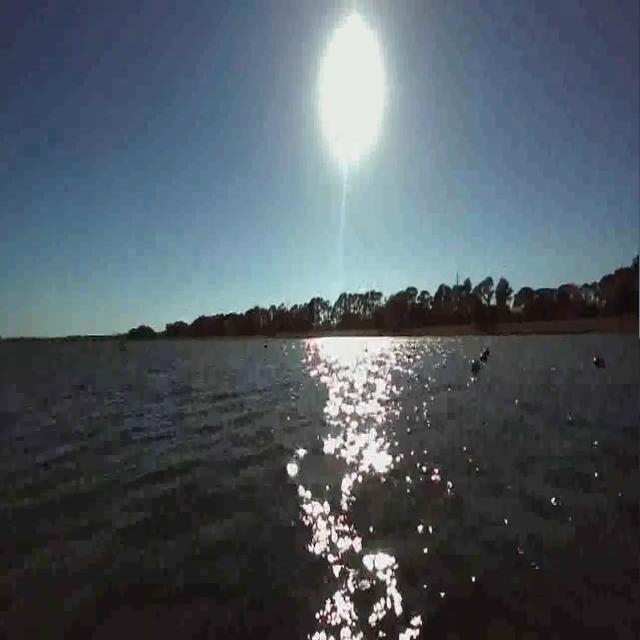green-buoy: (470, 359, 480, 373)
